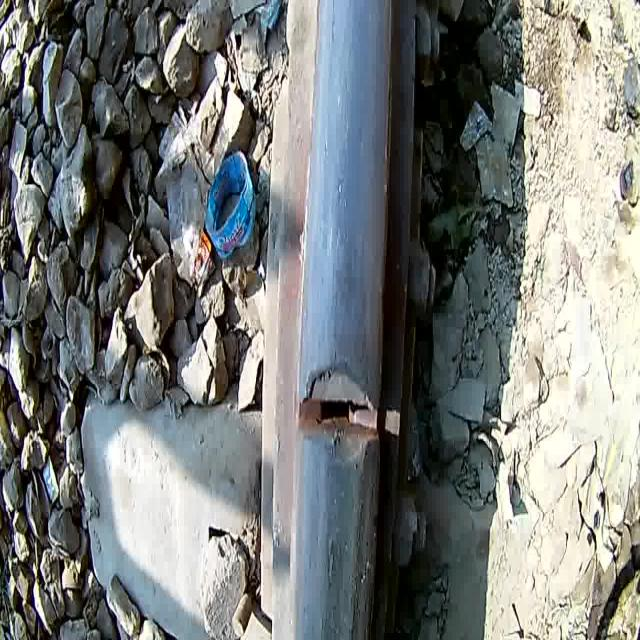Joint: (281, 347, 398, 489)
